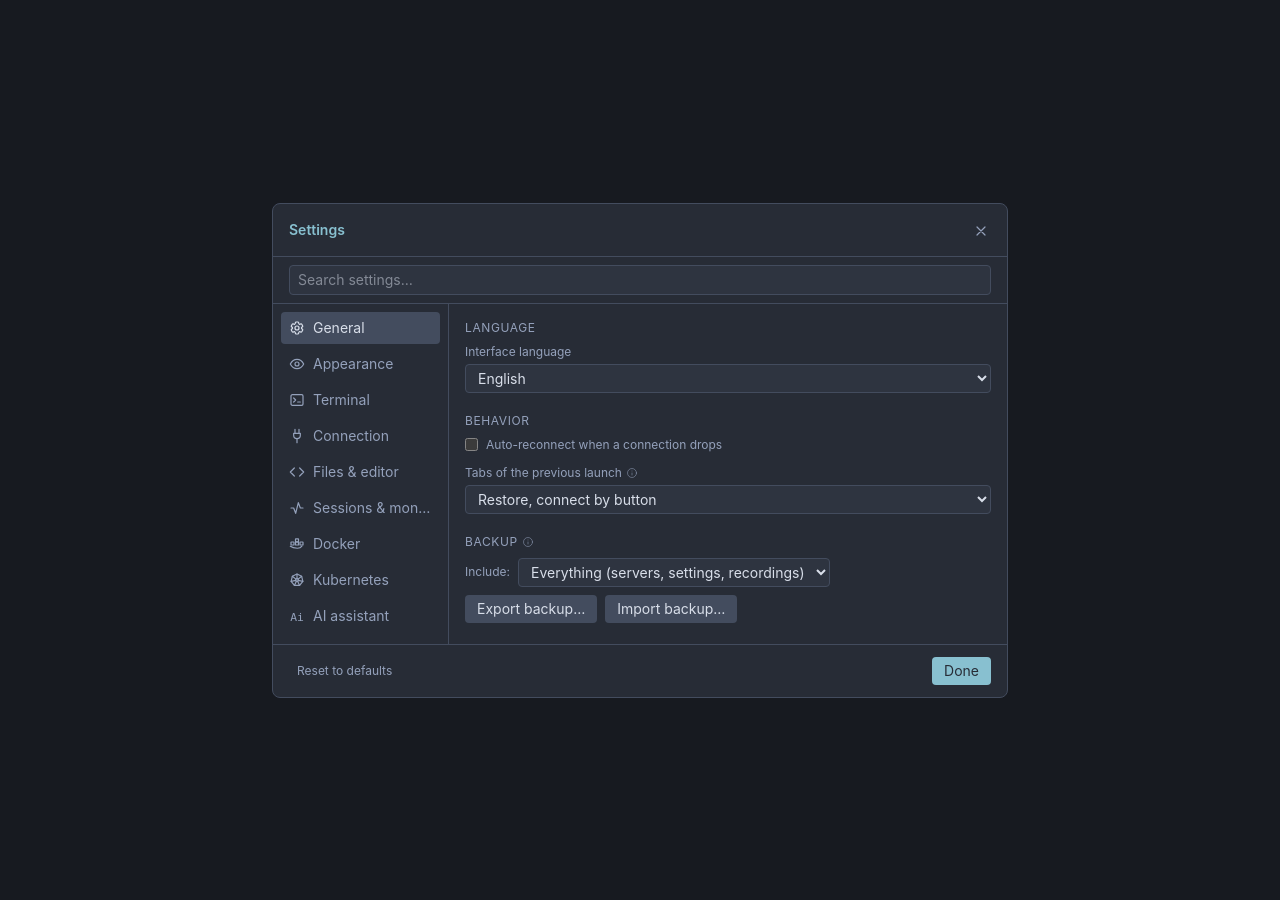
Test case: SettingsPanel — backup › writes nothing when the preview is cancelled
The image size is (1280, 900).
Click the button with test id "backup-import" at (671, 608), box [605, 594, 737, 622]
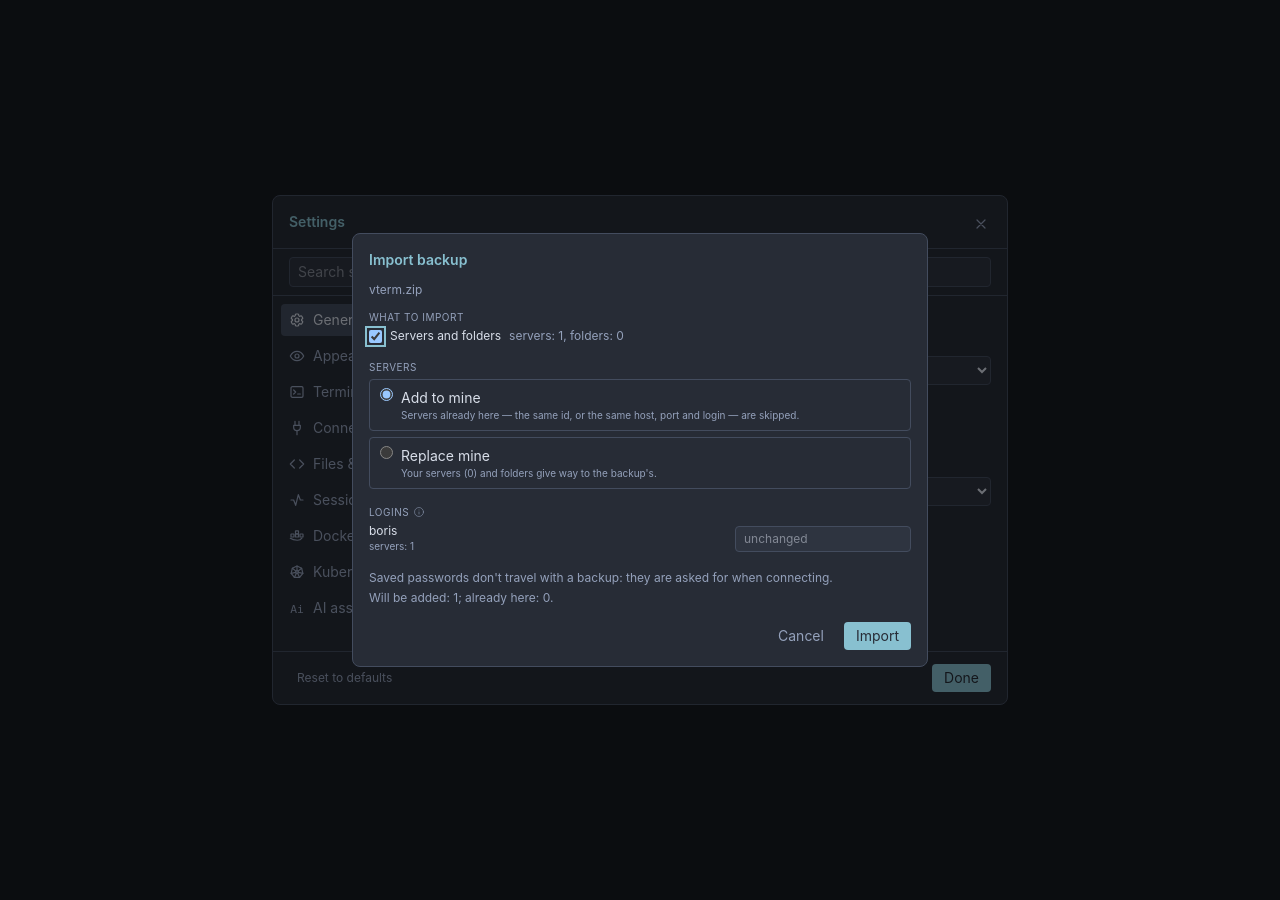
Check: the element with test id "backup-logins" is shown, box [369, 524, 911, 554]
Click the button "Cancel" at (801, 636), box [766, 622, 836, 650]
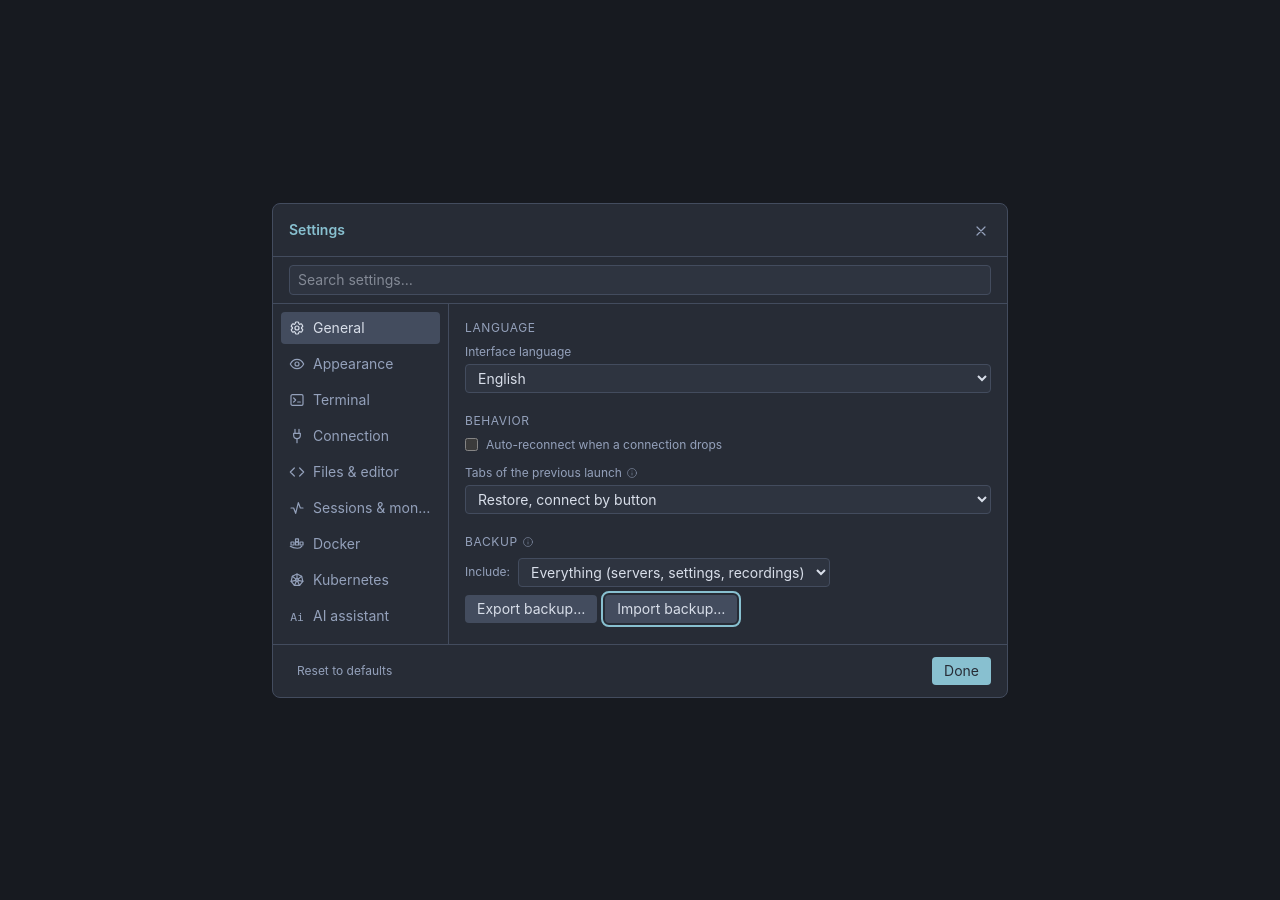
Check: the element with test id "backup-logins" is gone
